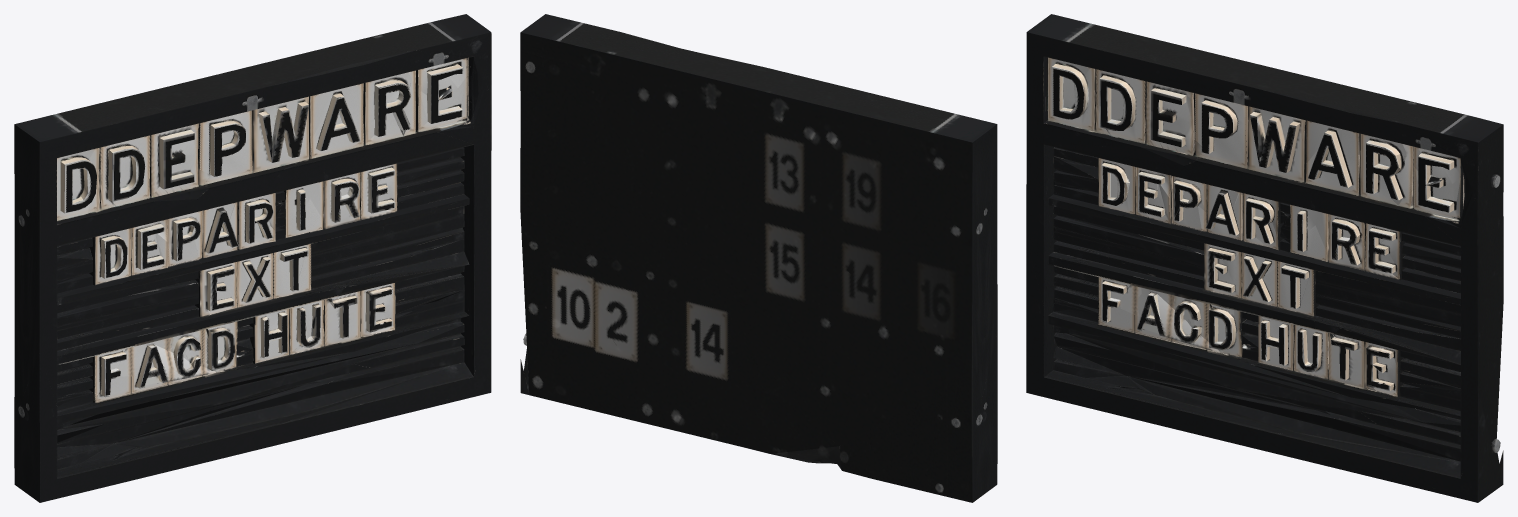
Rendered from Flip_timetable_board.glb.
3 views of the same model, side by side, from view 1: azimuth 30°, elevation 25°; view 2: azimuth 150°, elevation 25°; view 3: azimuth 330°, elevation 25° (orthographic).
Size of the model in its own units: 1.9 by 1.44 by 0.1846.
Materials: 1 (1 with a texture image).
